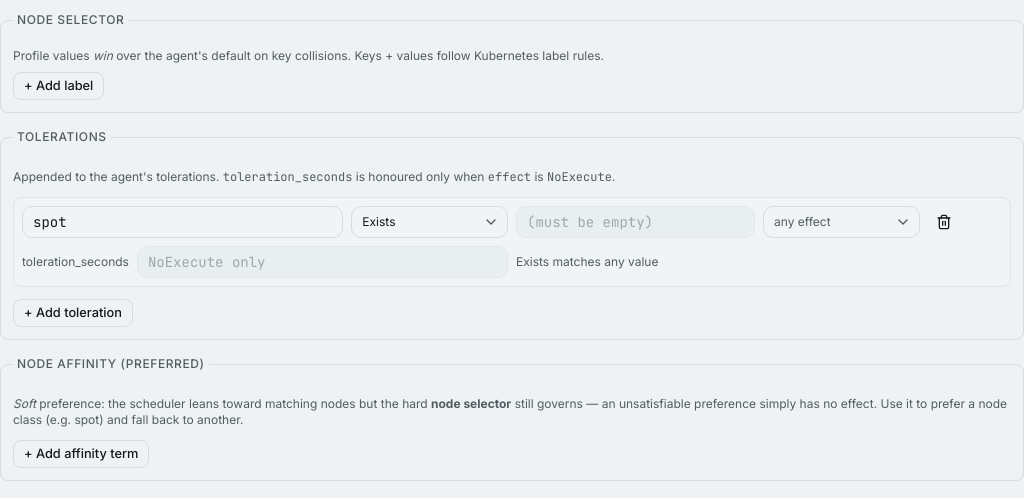
Test: TolerationEditorRow selects › effect → NoExecute enables the toleration_seconds field
Expected: the field named "Toleration seconds" is disabled, [137,246,508,278]
Click the dropdown named "Toleration effect": (841, 222) [763,206,920,238]
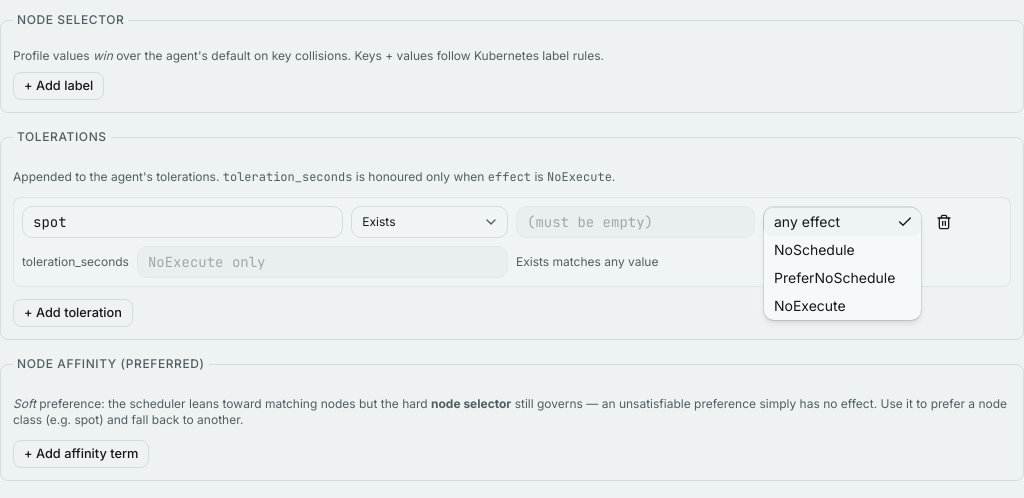
Click the option "NoExecute": (810, 306) [774,297,846,314]
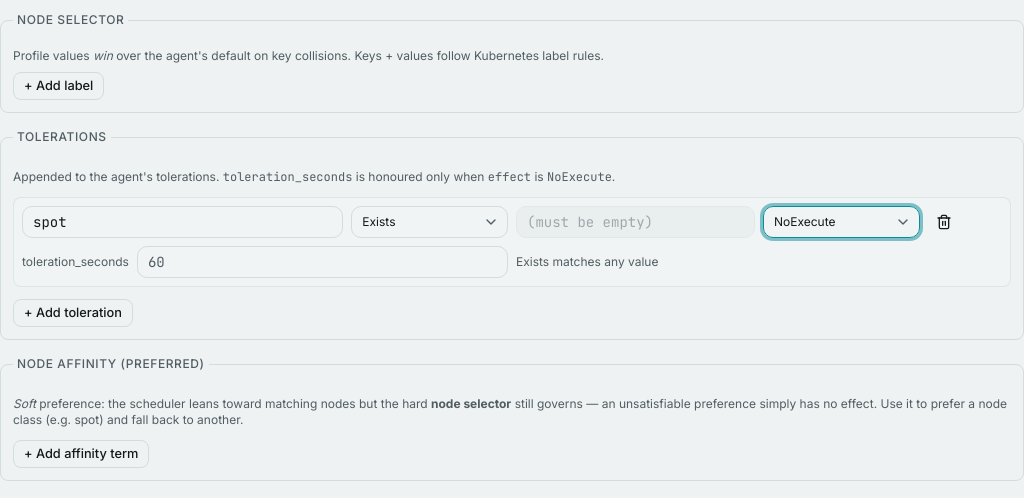
Expected: the field named "Toleration seconds" is enabled, [137,246,508,278]
